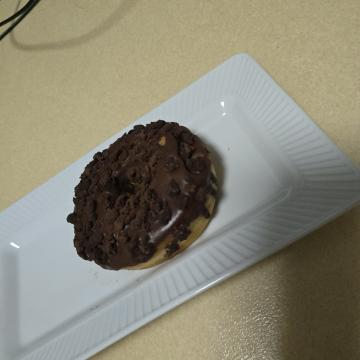doughnut: (110, 133, 284, 302)
